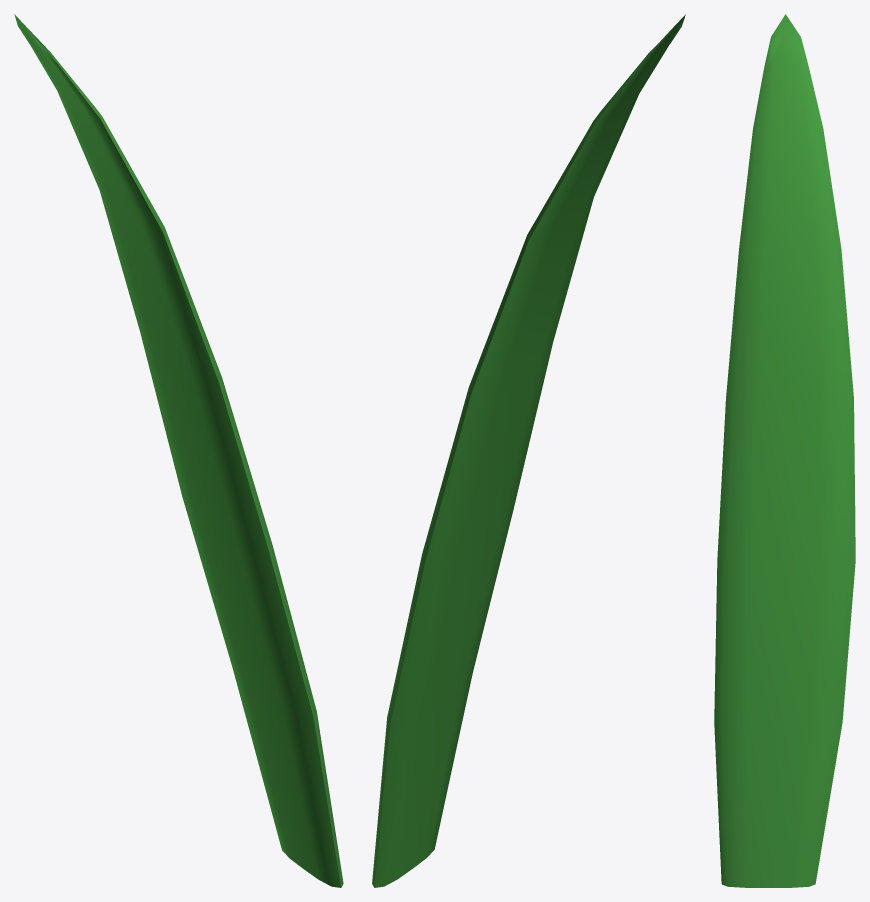
File: SM_Grass_Blade_Small_03.fbx
3 renders of one model, left to right at view 1: azimuth 30°, elevation 25°; view 2: azimuth 150°, elevation 25°; view 3: azimuth 270°, elevation 25°, orthographic. The views are drawn at different scales.
Visible parts, largest first — view 1: Cube.004; view 2: Cube.004; view 3: Cube.004.
Part boxes in pixels (x1,y1,x2,y2): Cube.004: [14, 14, 343, 887]; Cube.004: [372, 14, 685, 887]; Cube.004: [714, 14, 855, 887].
Size of the model in its own units: 8.43 by 24.83 by 4.22.
